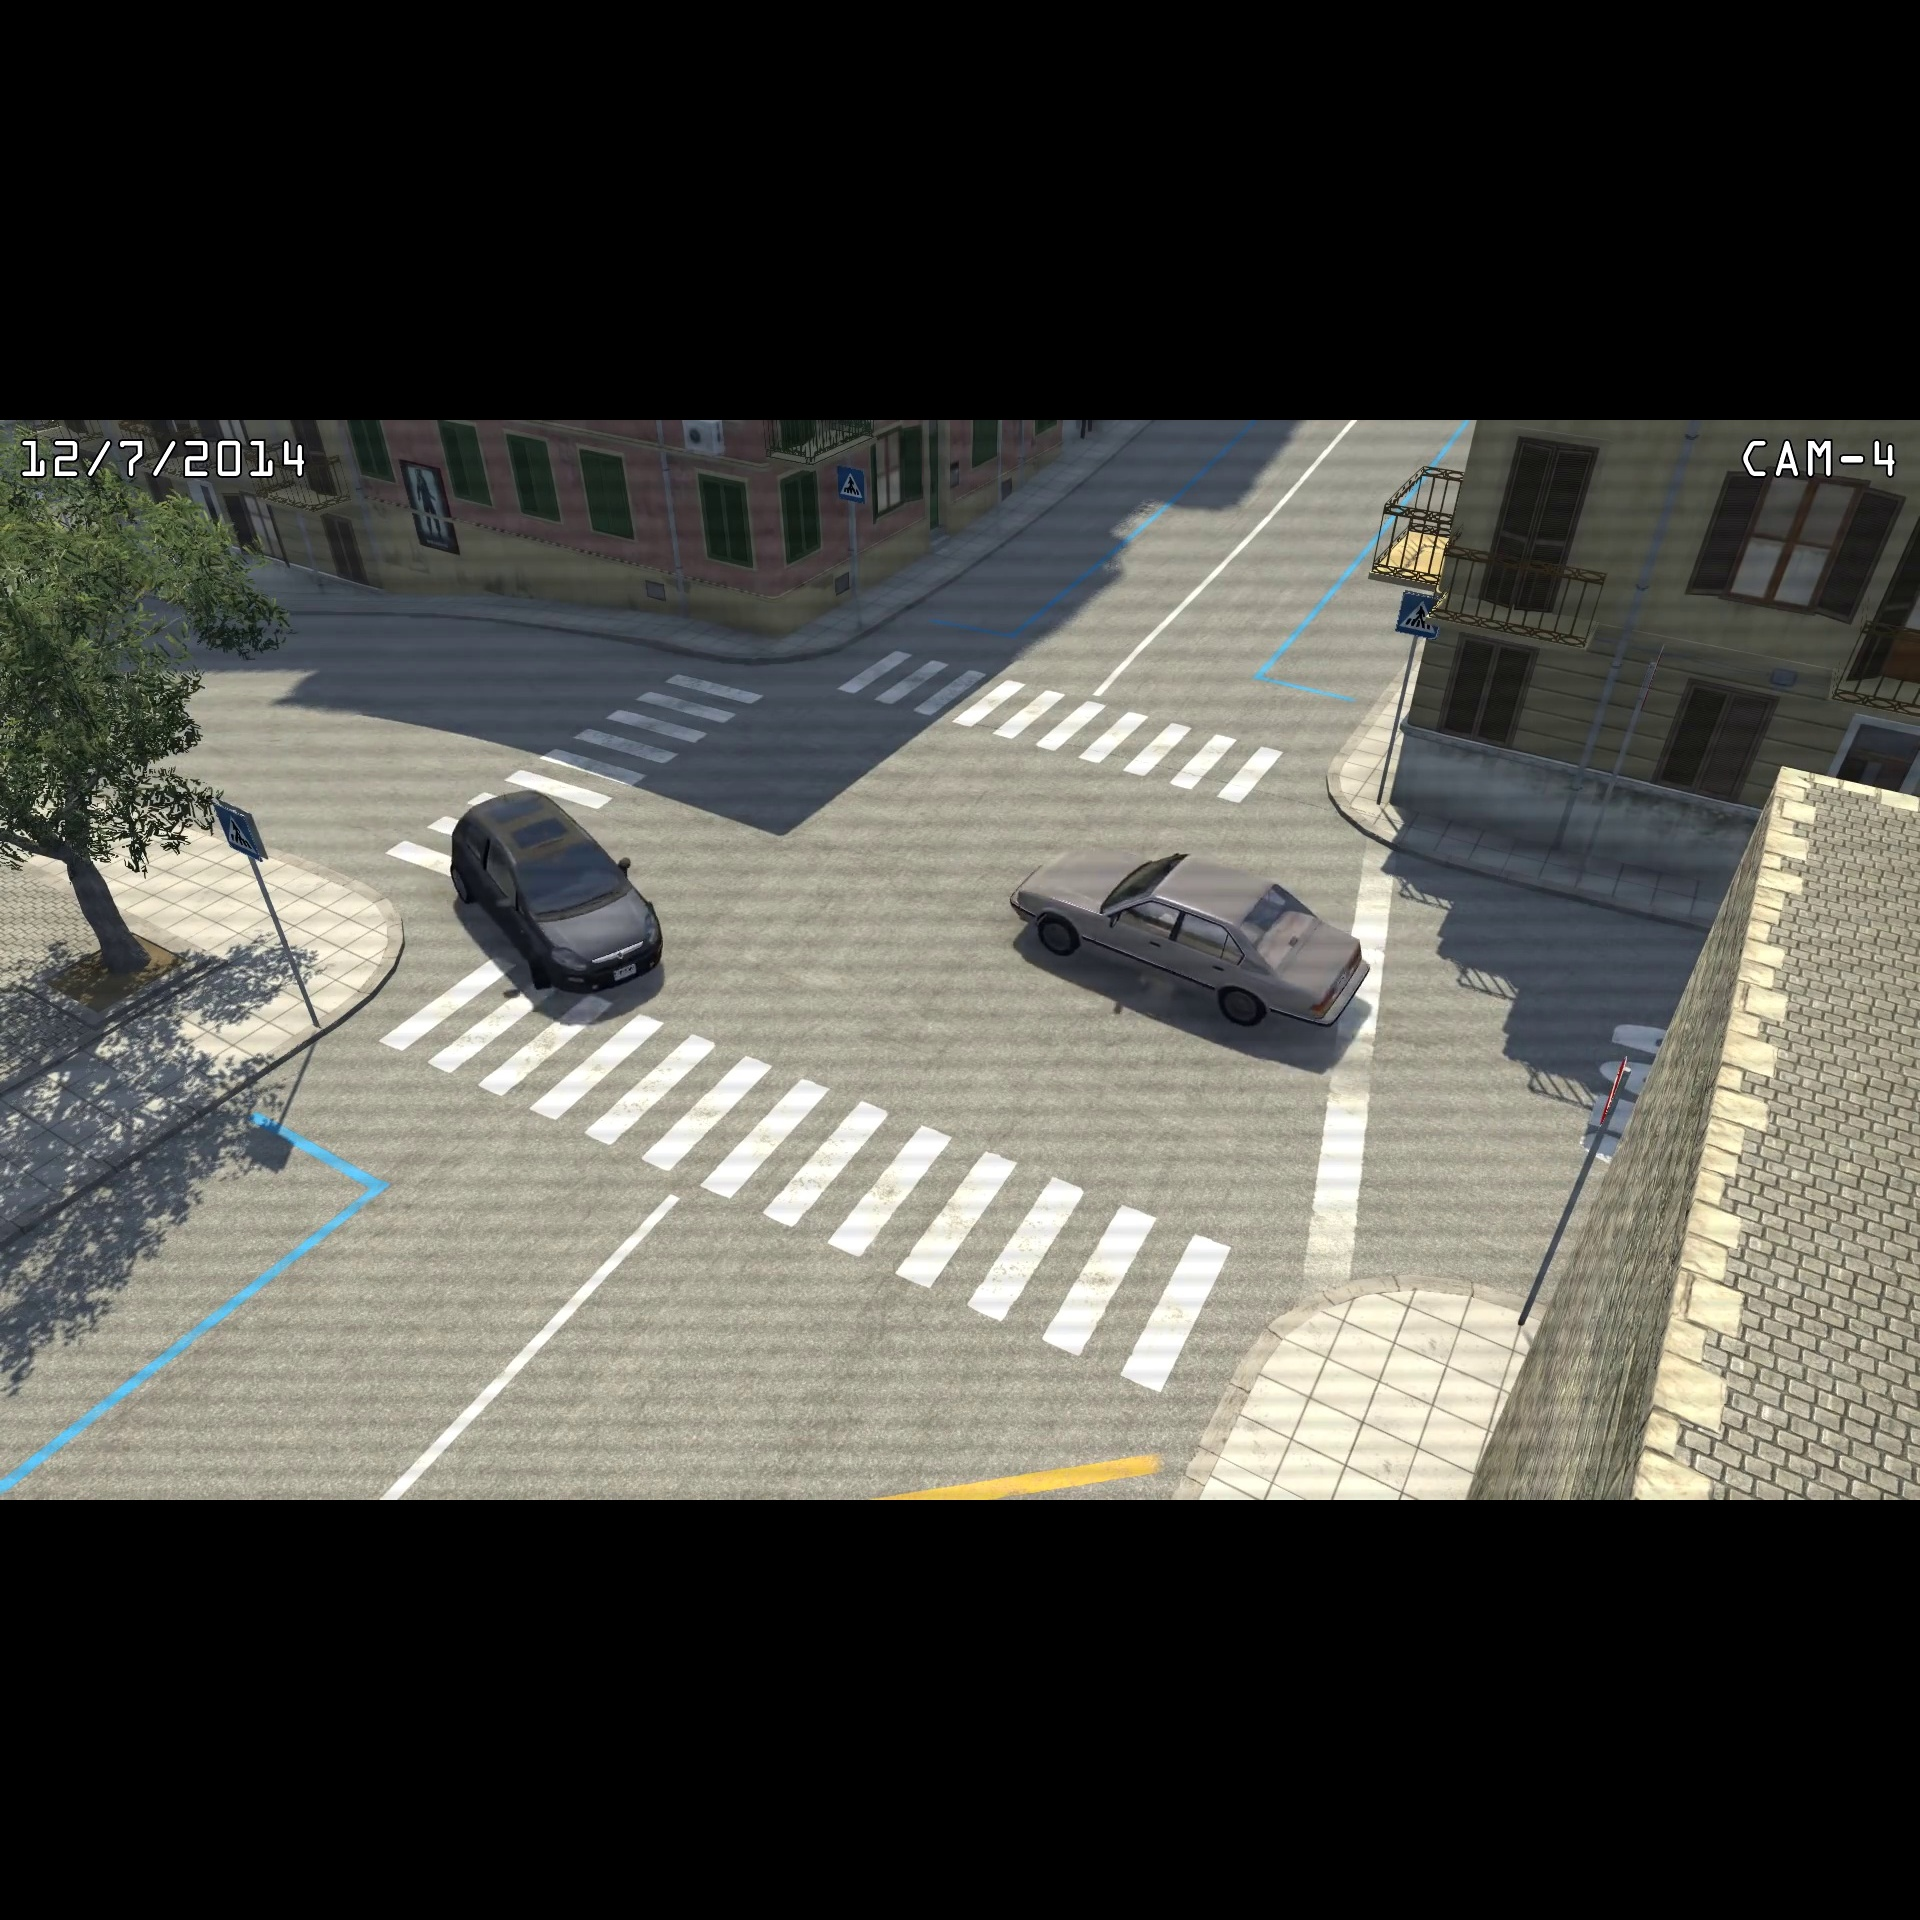vehicle: (1000, 839, 1380, 1044), (441, 782, 682, 1006)
